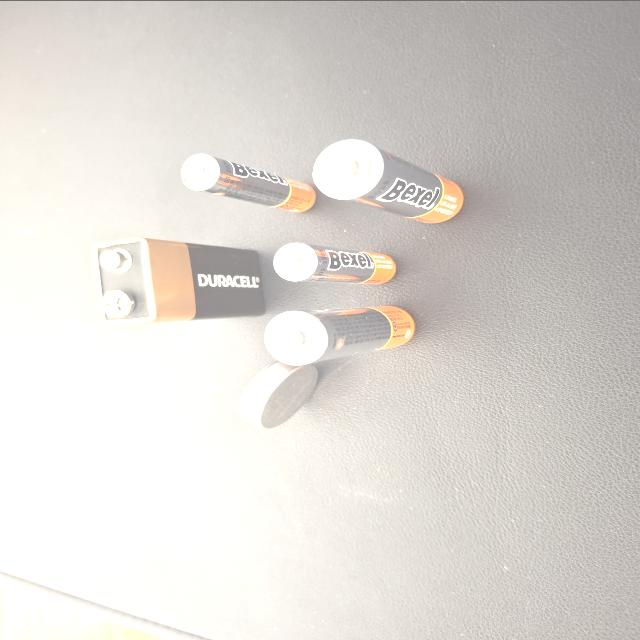9V: (422, 230, 538, 358)
AA: (557, 395, 640, 508), (368, 358, 446, 471)
AAA: (572, 297, 640, 397), (476, 365, 531, 457)
COIN: (284, 340, 372, 398)
